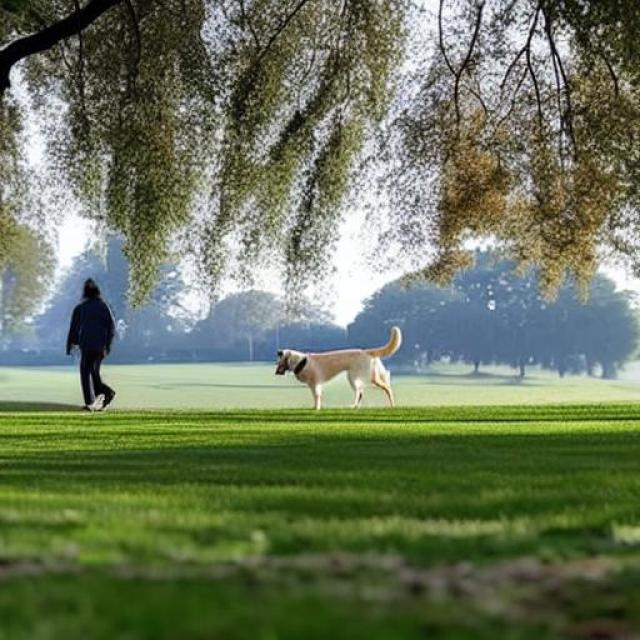Unleashed_Dog: (84, 327, 402, 410)
